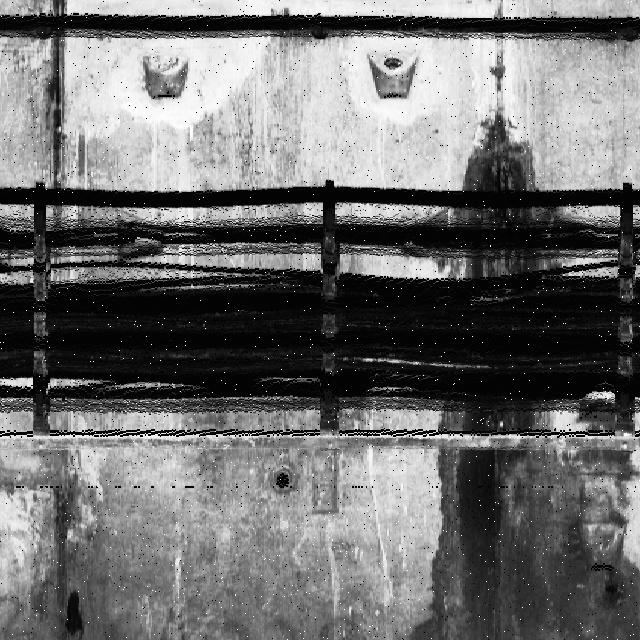leakage: (402, 412, 640, 640), (432, 106, 582, 288), (56, 588, 92, 640)
